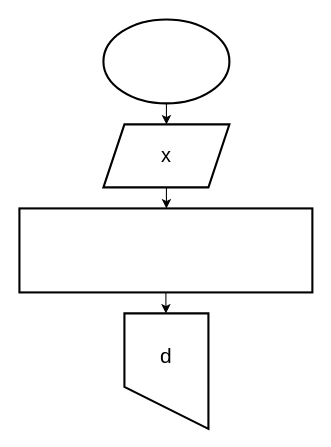
This 331x447 diagram has some shape labels left out. Here are the shapes that lost their labels. From the top down, the centre of each, then its label:
[166,61]: Начало
[165,250]: d = (int)((x - (int)x)*10);
